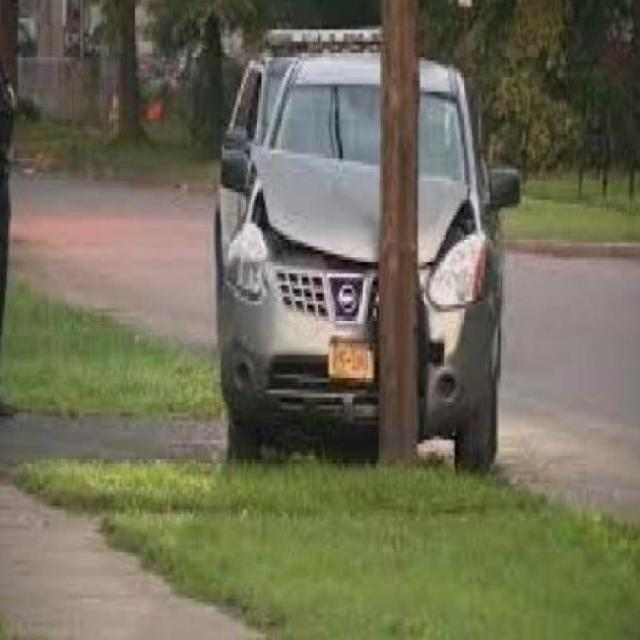accident: (225, 21, 523, 487)
